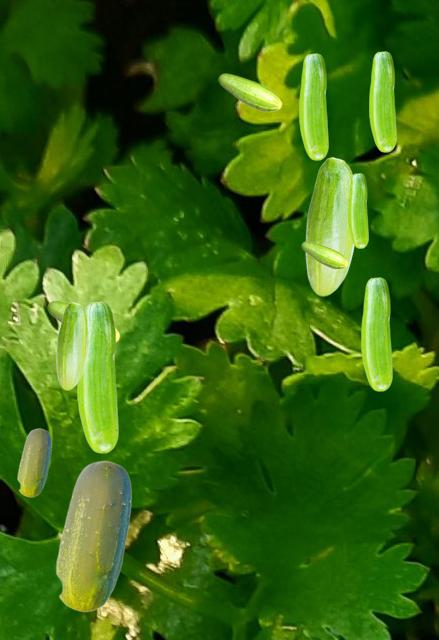cucumber: (55, 460, 130, 611), (305, 157, 354, 295), (77, 301, 117, 452), (361, 277, 391, 390), (47, 300, 119, 342), (299, 53, 327, 159), (56, 302, 87, 389), (369, 51, 395, 151), (218, 73, 281, 111), (17, 428, 50, 496), (348, 173, 367, 247), (301, 241, 347, 268)
